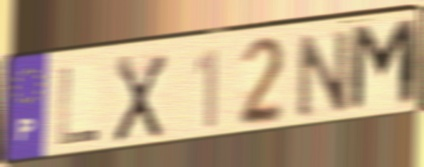1: (194, 45, 221, 131)
2: (238, 35, 288, 132)
L: (56, 65, 101, 148)
M: (346, 15, 421, 117)
N: (296, 25, 352, 122)
X: (111, 51, 170, 146)
